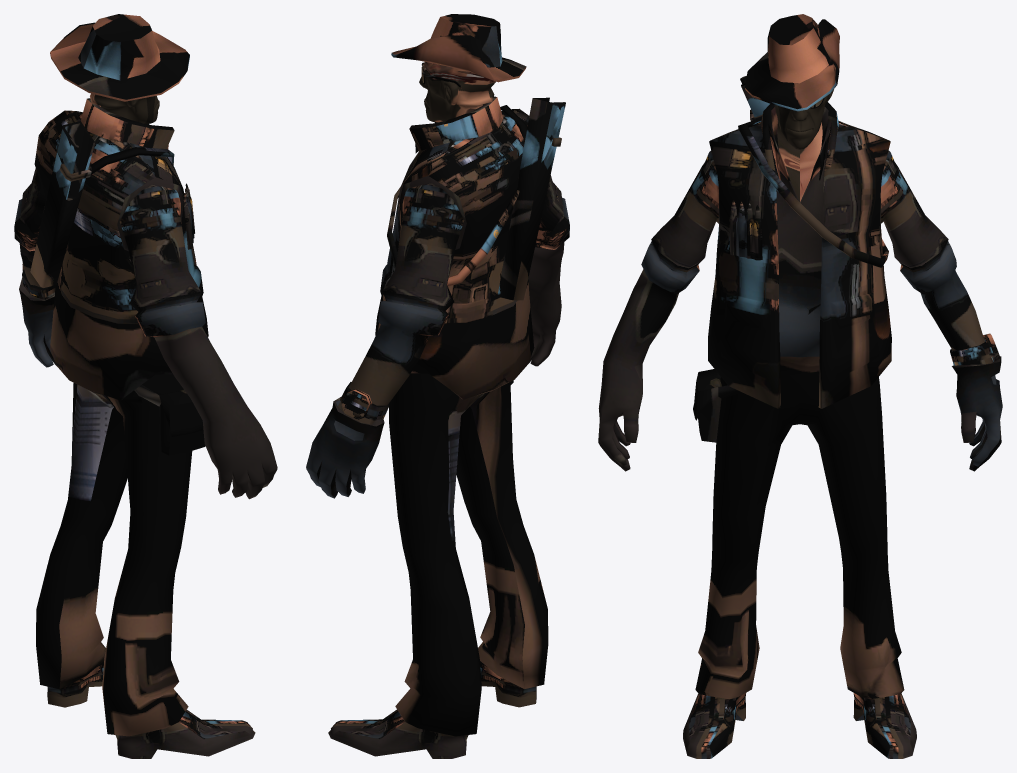
Rendered from sniper_blue.glb.
3 views of the same model, side by side, from view 1: azimuth 30°, elevation 25°; view 2: azimuth 150°, elevation 25°; view 3: azimuth 270°, elevation 25° (orthographic).
Parts seen in each view (by area): view 1: models/player/sniper_blue; view 2: models/player/sniper_blue; view 3: models/player/sniper_blue.
Part boxes in pixels (x1=…): models/player/sniper_blue: x1=14, y1=14, x2=277, y2=758; models/player/sniper_blue: x1=306, y1=14, x2=569, y2=758; models/player/sniper_blue: x1=598, y1=14, x2=1002, y2=758.
Size of the model in its own units: 20.67 by 86.57 by 45.44.
5 materials, 5 textured.
